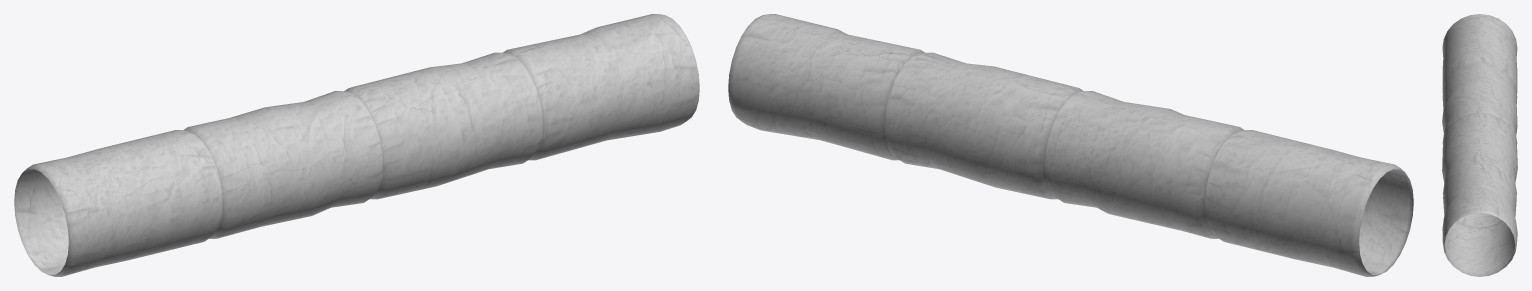
The model's file is Subway_Pipe_foil1.fbx.
The picture shows the model from 3 angles, left to right: view 1: azimuth 30°, elevation 25°; view 2: azimuth 150°, elevation 25°; view 3: azimuth 270°, elevation 25°; orthographic projection. The views are drawn at different scales.
Parts seen in each view (by area): view 1: pCylinder10; view 2: pCylinder10; view 3: pCylinder10.
Boxes of the visible parts, x1,y1,x2,y2 form: pCylinder10: (14, 14, 699, 276); pCylinder10: (728, 14, 1413, 276); pCylinder10: (1442, 14, 1517, 276).
Bounding box in the file's own units: 400 × 64.76 × 64.43.
